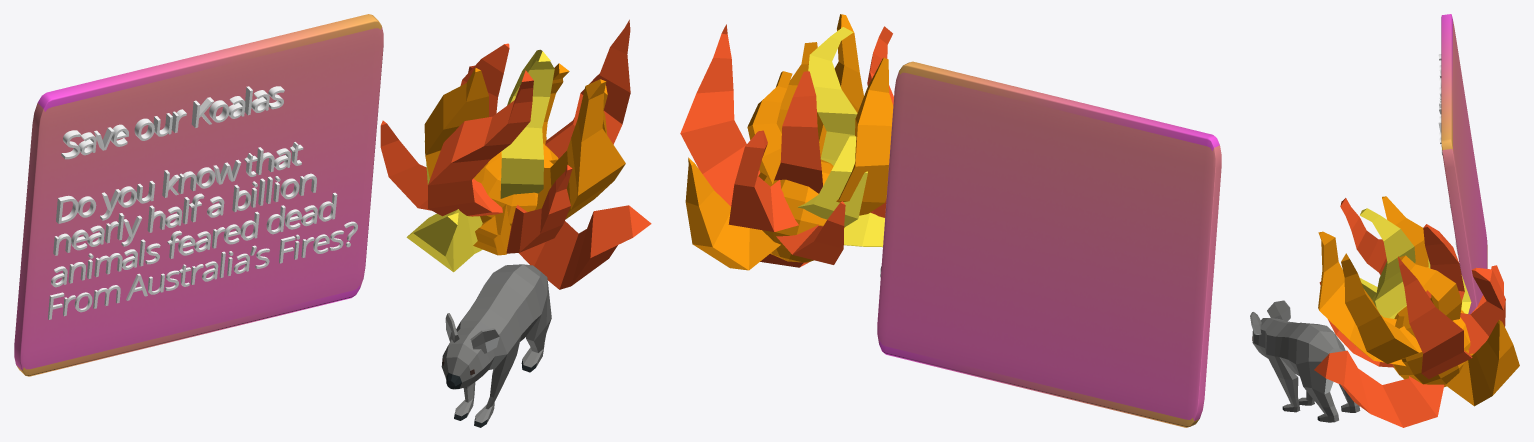
File: koalas.obj
3 renders of one model, left to right at view 1: azimuth 30°, elevation 25°; view 2: azimuth 150°, elevation 25°; view 3: azimuth 270°, elevation 25°, orthographic. The views are drawn at different scales.
Parts seen in each view (by area): view 1: 082_Rectagle_with_bevel, 083_Koala, 085_mesh167038055, 095_mesh702594773, 097_mesh813435182, 086_mesh1602184737, 094_mesh1762201146, 092_mesh217930424, 098_mesh1012330263, 087_mesh1190332235, 100_mesh1624860735, 084_mesh1374064128 (+2 smaller); view 2: 082_Rectagle_with_bevel, 092_mesh217930424, 099_mesh1746021426, 094_mesh1762201146, 093_mesh1501086520, 090_mesh740134887, 086_mesh1602184737, 091_mesh300155229, 084_mesh1374064128, 100_mesh1624860735, 089_mesh2112811785, 095_mesh702594773 (+3 smaller); view 3: 082_Rectagle_with_bevel, 083_Koala, 097_mesh813435182, 092_mesh217930424, 088_mesh627047762, 099_mesh1746021426, 095_mesh702594773, 086_mesh1602184737, 093_mesh1501086520, 089_mesh2112811785, 084_mesh1374064128, 090_mesh740134887 (+3 smaller).
Boxes of the visible parts, left/top/right/bottom form: 082_Rectagle_with_bevel: left=14, top=14, right=383, bottom=376; 083_Koala: left=441, top=264, right=551, bottom=427; 085_mesh167038055: left=428, top=70, right=533, bottom=216; 095_mesh702594773: left=535, top=79, right=625, bottom=219; 097_mesh813435182: left=519, top=205, right=651, bottom=289; 086_mesh1602184737: left=500, top=49, right=554, bottom=198; 094_mesh1762201146: left=424, top=67, right=488, bottom=182; 092_mesh217930424: left=545, top=19, right=630, bottom=158; 098_mesh1012330263: left=406, top=209, right=482, bottom=272; 087_mesh1190332235: left=506, top=165, right=572, bottom=253; 100_mesh1624860735: left=380, top=120, right=430, bottom=210; 084_mesh1374064128: left=480, top=143, right=558, bottom=226; 082_Rectagle_with_bevel: left=877, top=61, right=1221, bottom=427; 092_mesh217930424: left=680, top=24, right=760, bottom=206; 099_mesh1746021426: left=685, top=157, right=780, bottom=270; 094_mesh1762201146: left=836, top=57, right=893, bottom=215; 093_mesh1501086520: left=728, top=130, right=798, bottom=231; 090_mesh740134887: left=774, top=71, right=822, bottom=193; 086_mesh1602184737: left=808, top=27, right=857, bottom=165; 091_mesh300155229: left=797, top=136, right=867, bottom=227; 084_mesh1374064128: left=758, top=159, right=844, bottom=262; 100_mesh1624860735: left=776, top=201, right=845, bottom=264; 089_mesh2112811785: left=747, top=71, right=792, bottom=184; 095_mesh702594773: left=817, top=14, right=863, bottom=157; 082_Rectagle_with_bevel: left=1441, top=14, right=1487, bottom=314; 083_Koala: left=1250, top=300, right=1360, bottom=422; 097_mesh813435182: left=1314, top=350, right=1444, bottom=427; 092_mesh217930424: left=1398, top=256, right=1472, bottom=379; 088_mesh627047762: left=1341, top=253, right=1421, bottom=363; 099_mesh1746021426: left=1445, top=320, right=1519, bottom=406; 095_mesh702594773: left=1318, top=231, right=1405, bottom=366; 086_mesh1602184737: left=1360, top=208, right=1415, bottom=318; 093_mesh1501086520: left=1460, top=267, right=1505, bottom=353; 089_mesh2112811785: left=1397, top=255, right=1461, bottom=320; 084_mesh1374064128: left=1392, top=306, right=1474, bottom=387; 090_mesh740134887: left=1423, top=224, right=1464, bottom=300.
Size of the model in its own units: 352 by 199 by 182.
Materials: 6 (2 with a texture image).
